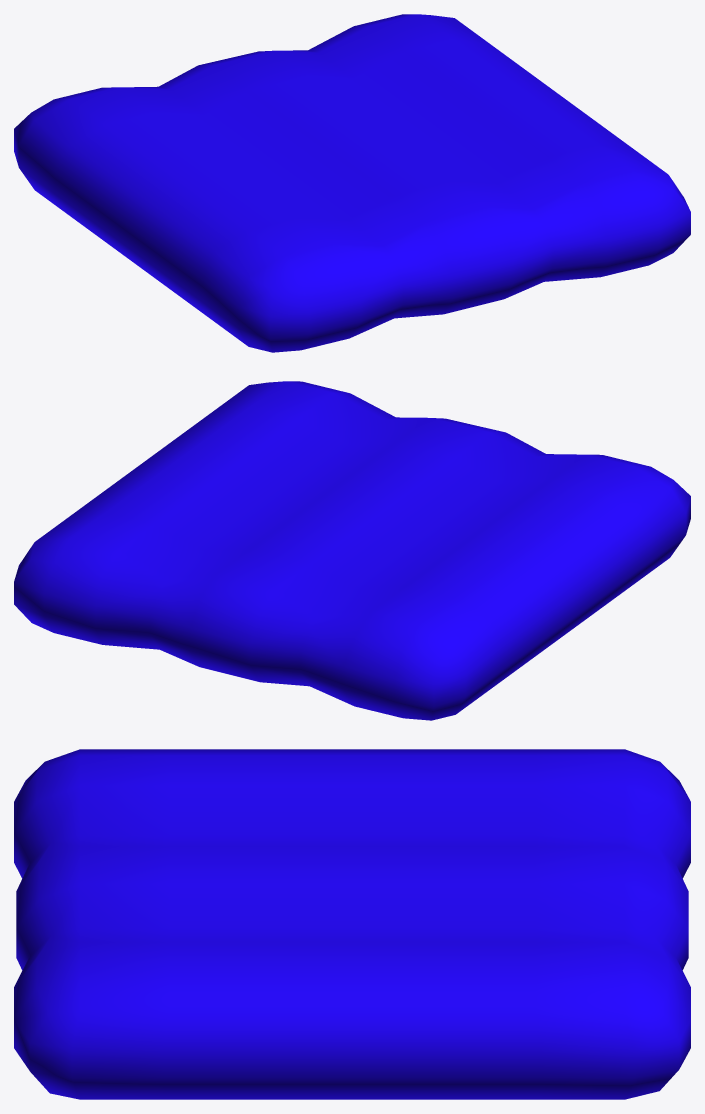
File: SM_CastleBase.FBX
3 renders of one model, top to bottom at view 1: azimuth 30°, elevation 25°; view 2: azimuth 150°, elevation 25°; view 3: azimuth 270°, elevation 25°, orthographic. The views are drawn at different scales.
Visible parts, largest first — view 1: Base_low; view 2: Base_low; view 3: Base_low.
Part boxes in pixels (box(x1,y1,x2,y2)): Base_low: box(14, 14, 690, 352); Base_low: box(14, 381, 690, 720); Base_low: box(14, 749, 690, 1099).
Size of the model in its own units: 581 by 107 by 600.
